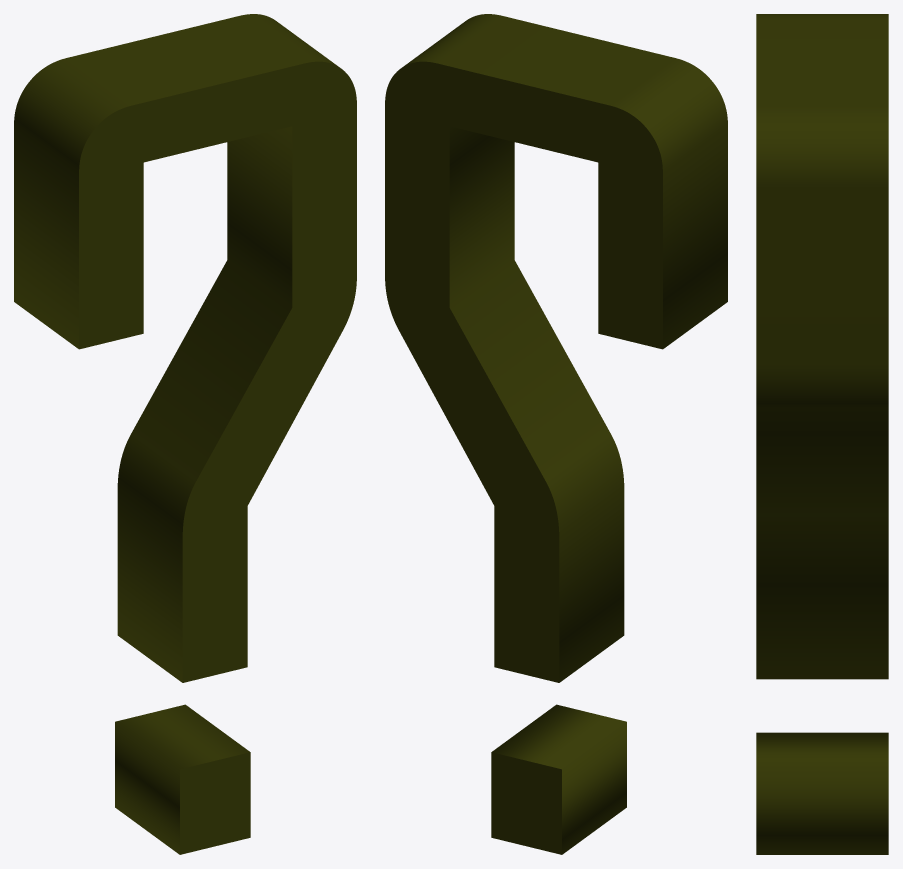
File: QuestionMarkYellow.fbx
3 views of the same model, side by side, from view 1: azimuth 30°, elevation 25°; view 2: azimuth 150°, elevation 25°; view 3: azimuth 270°, elevation 25° (orthographic).
Parts seen in each view (by area): view 1: QMark; view 2: QMark; view 3: QMark.
Boxes of the visible parts, x1,y1,x2,y2 form: QMark: [14, 14, 356, 854]; QMark: [385, 14, 727, 854]; QMark: [756, 14, 888, 854].
Size of the model in its own units: 24.66 by 64.54 by 10.
